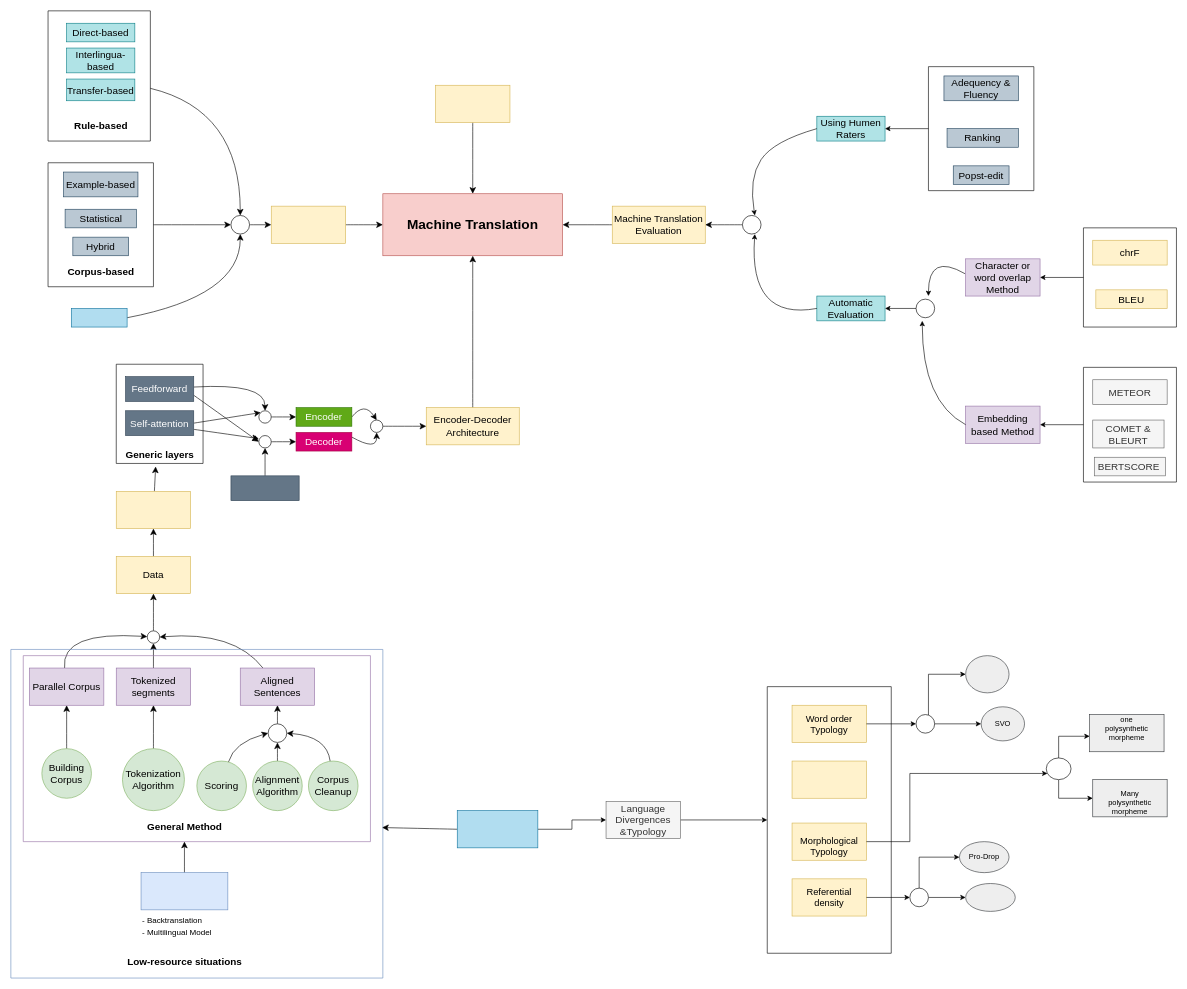
This 1187x989 diagram has some shape labels left out. Each missing label, with the centre of its shape:
"Bias" goes at pixel 472 103.
"Cross-attention Layer" goes at pixel 264 488.
"Data Augmentation" goes at pixel 184 891.
"Human Spoken Languages" goes at pixel 497 829.
"Lexical Divergences" goes at pixel 828 779.
"Machine Translation System" goes at pixel 308 224.
"Neural" goes at pixel 99 317.
"Non-Pro-Drop" goes at pixel 990 897.
"SOV" goes at pixel 987 674.
"Training" goes at pixel 153 510.
